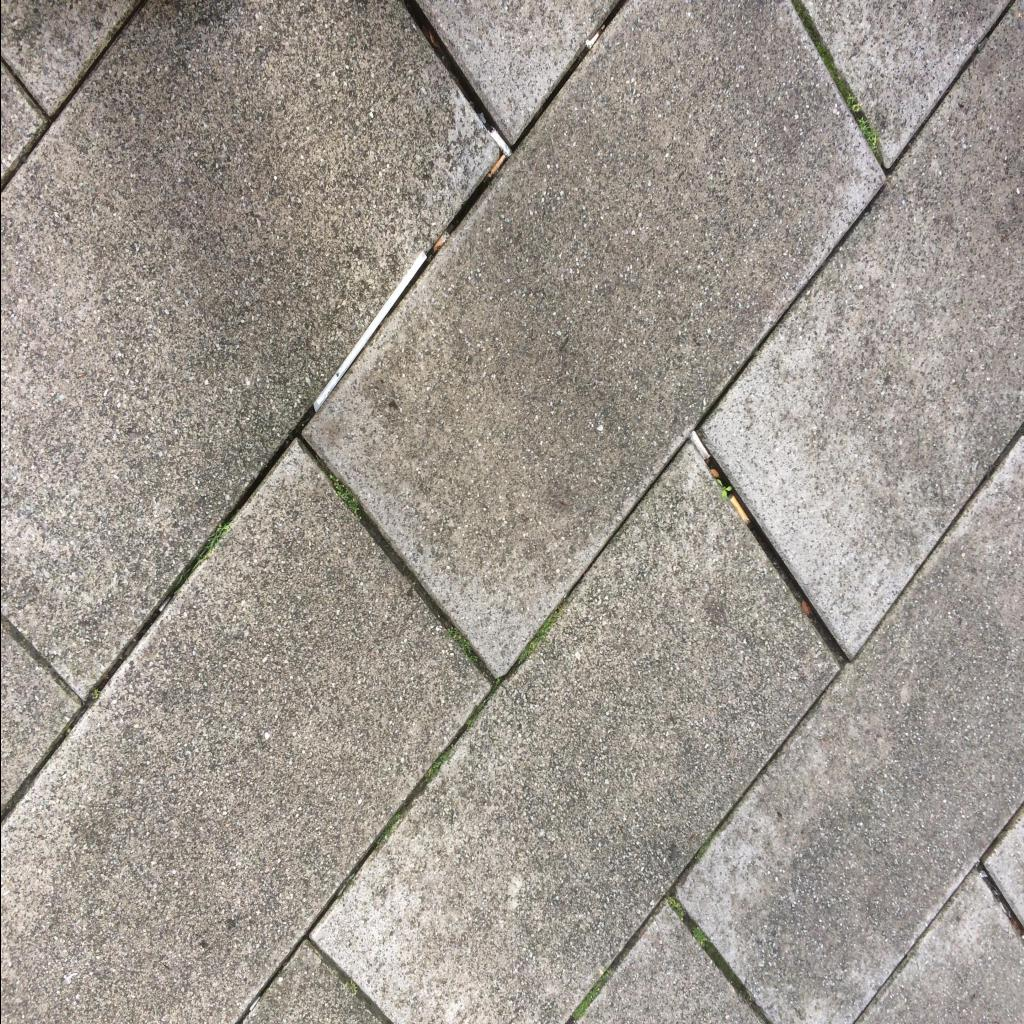Cigarette: (486, 126, 512, 158), (727, 494, 749, 524), (687, 429, 709, 459), (584, 22, 604, 48), (486, 154, 504, 178), (432, 229, 448, 251)
Plastic straw: (313, 252, 425, 412)
